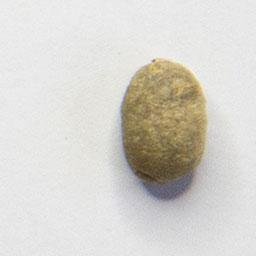peaberry: (117, 55, 210, 188)
